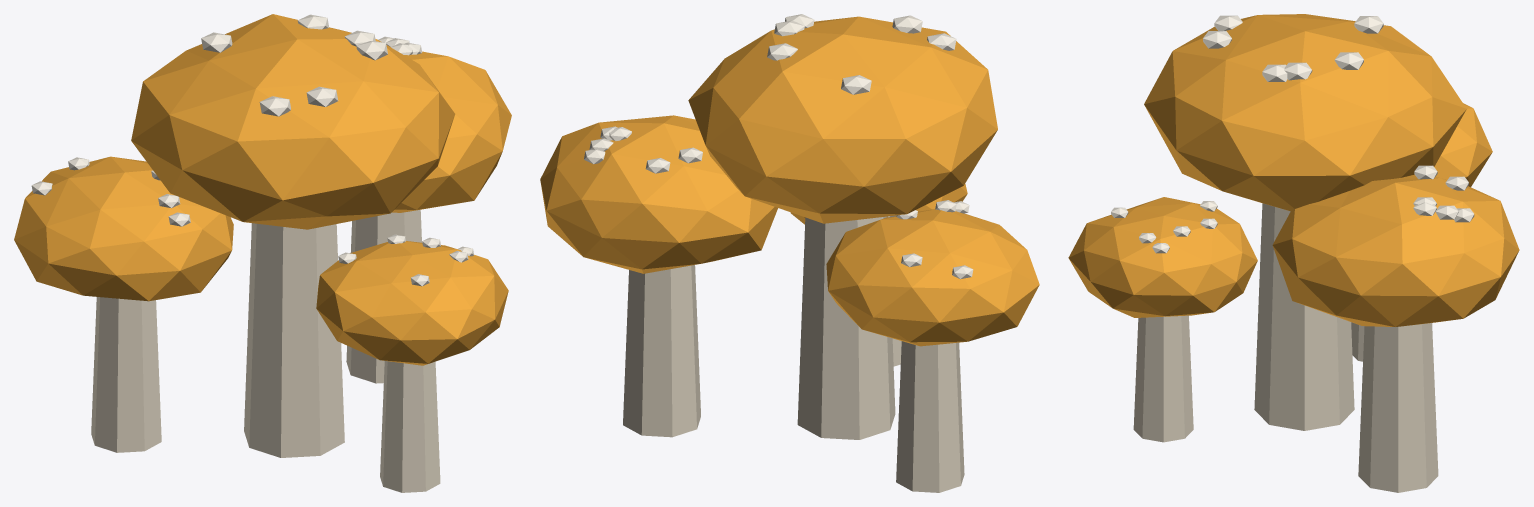
The model's file is theme_mushroom_ripe.glb.
3 views of the same model, side by side, from view 1: azimuth 30°, elevation 25°; view 2: azimuth 150°, elevation 25°; view 3: azimuth 270°, elevation 25° (orthographic). The views are drawn at different scales.
Parts seen in each view (by area): view 1: theme_mushroom_ripe; view 2: theme_mushroom_ripe; view 3: theme_mushroom_ripe.
Boxes of the visible parts, x1,y1,x2,y2 form: theme_mushroom_ripe: [14, 14, 511, 492]; theme_mushroom_ripe: [540, 14, 1039, 492]; theme_mushroom_ripe: [1068, 14, 1519, 492].
Size of the model in its own units: 0.3323 by 0.2681 by 0.2883.
